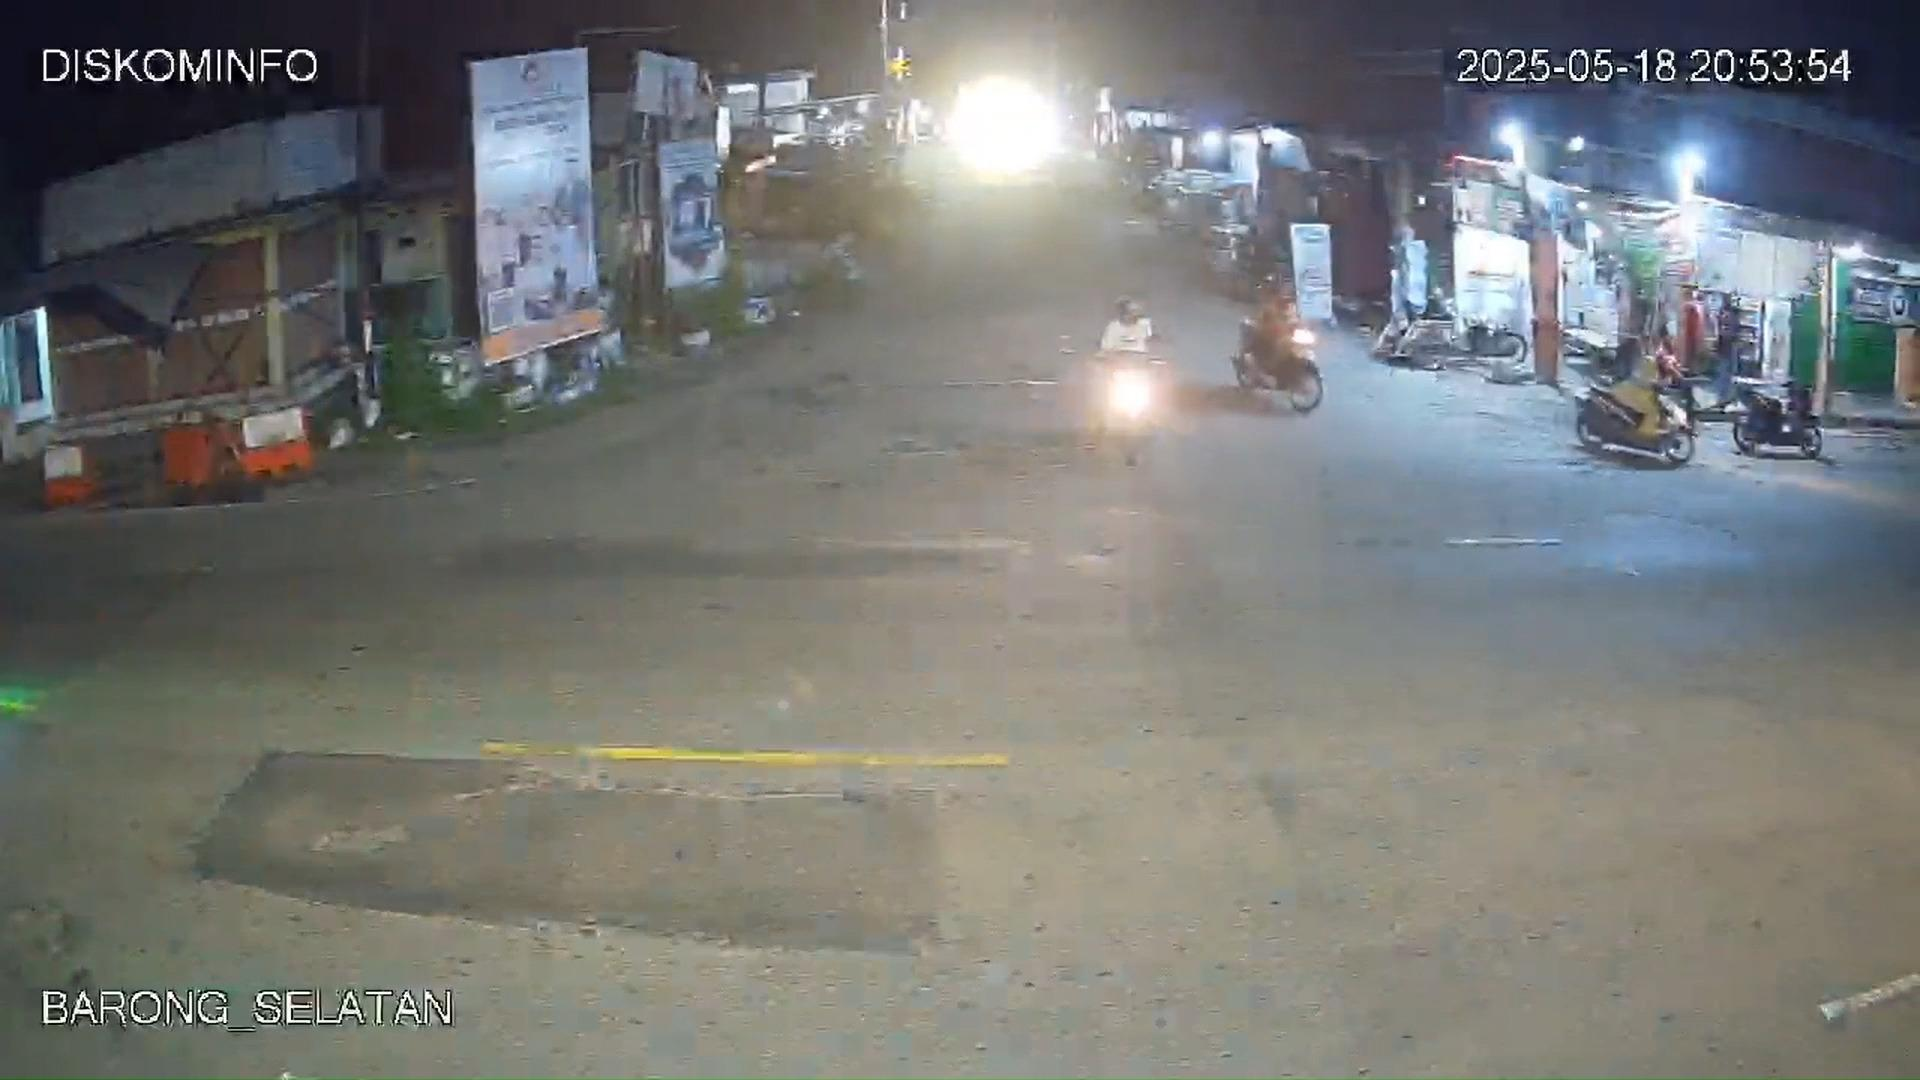Motor: (1573, 365, 1698, 469), (1088, 294, 1158, 454), (1232, 318, 1325, 414), (1733, 380, 1826, 460)
